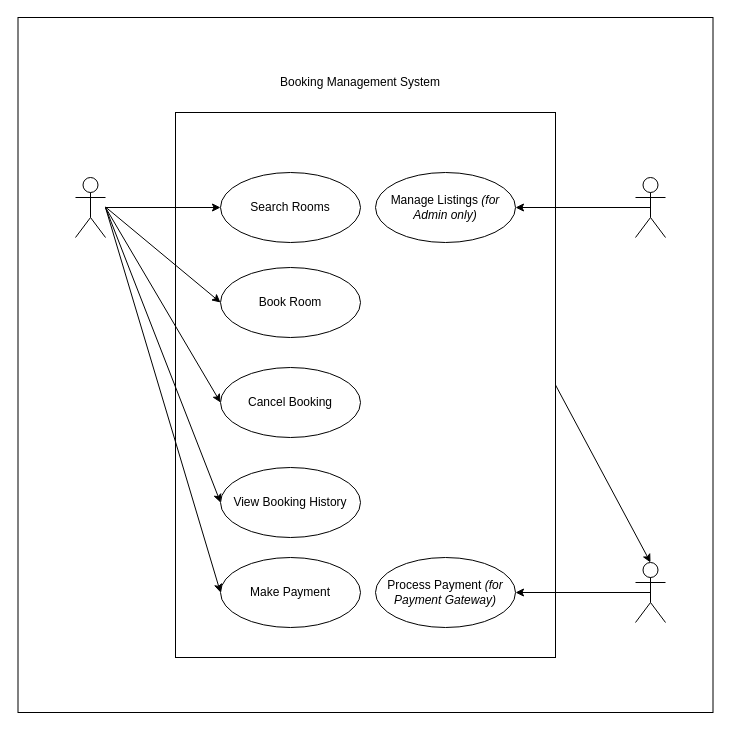
Image size: 730x730. Some labels were removed from this diagram. The shapes that lost their labels are listed below. From the top down, each one's centre as x and y in pixels, then its label:
the point at 90,207: User
the point at 650,207: Admin
the point at 650,592: Payment Gateway
